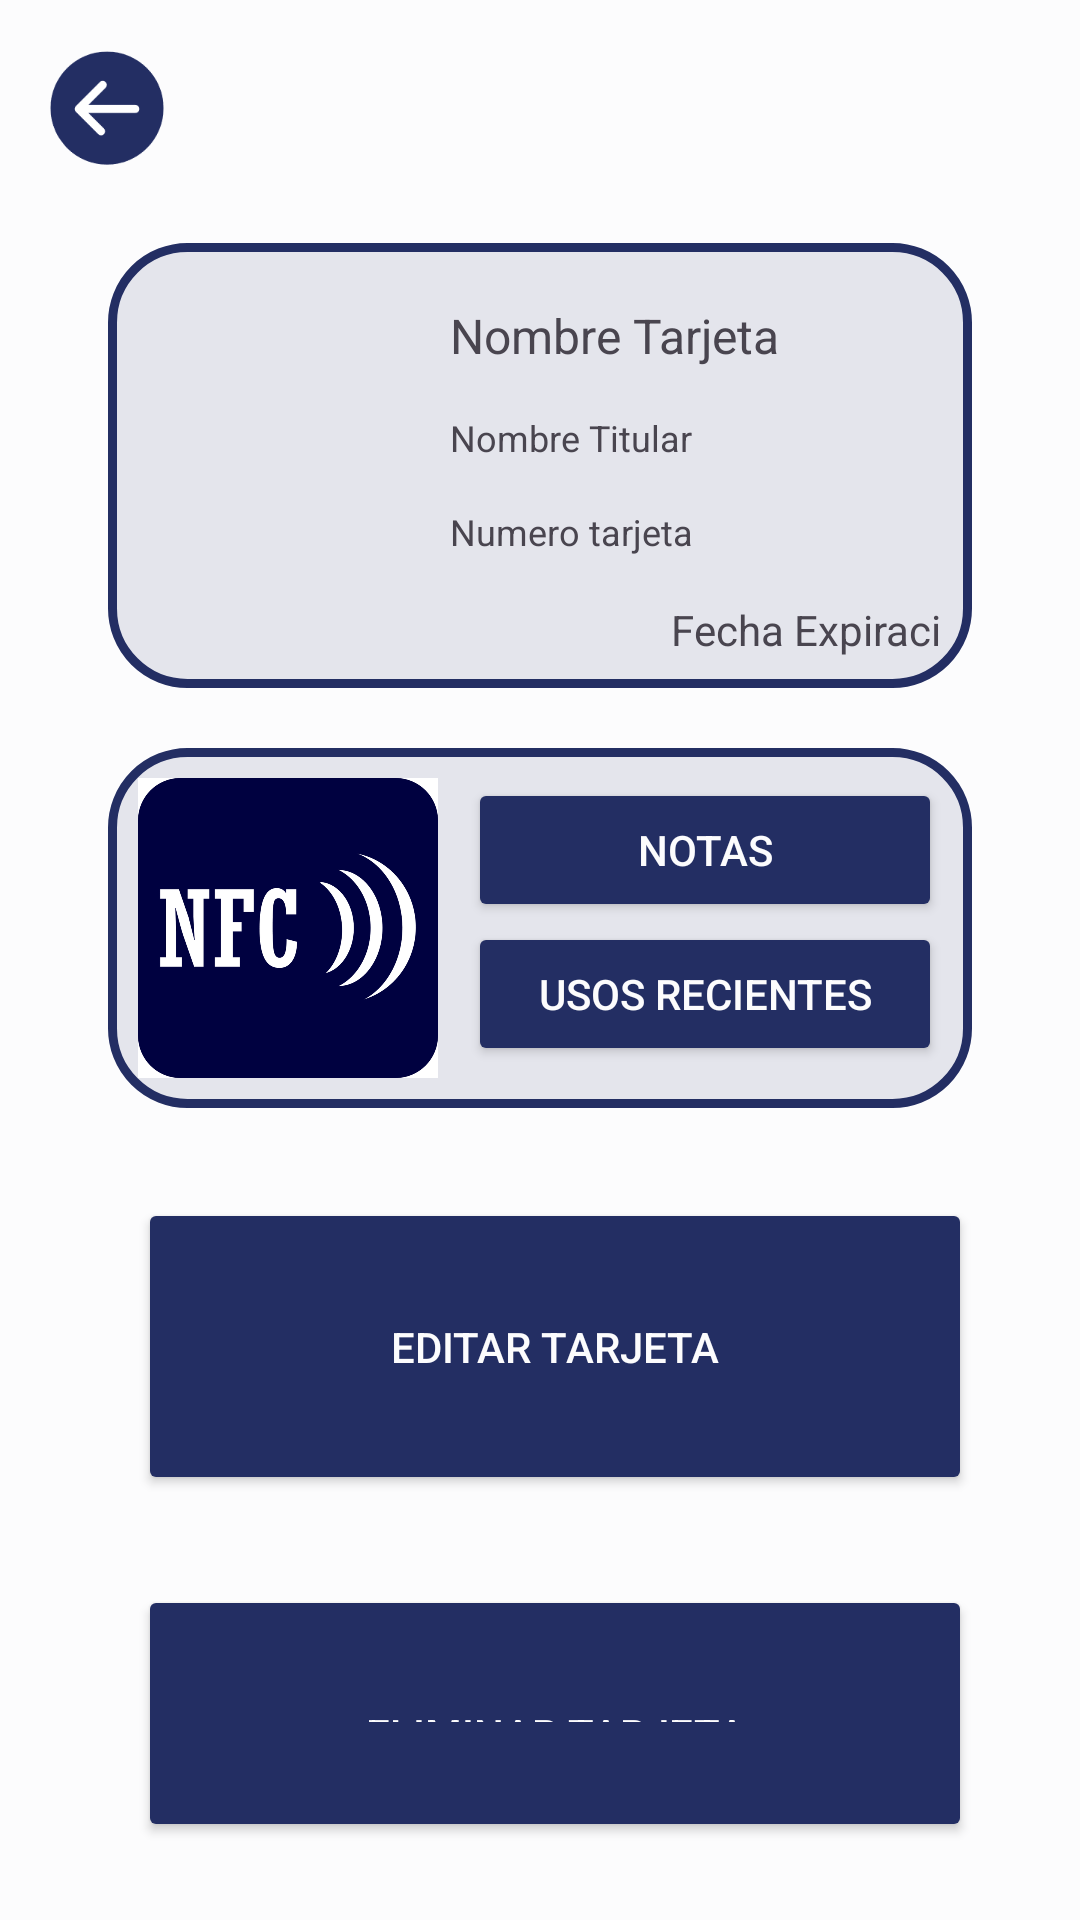

Screen size 1080x1920. Icon name, then its box in pixels as [left=x1, top=y1, right=x2, bottom=y2]:
goback: [left=50, top=51, right=164, bottom=165]
